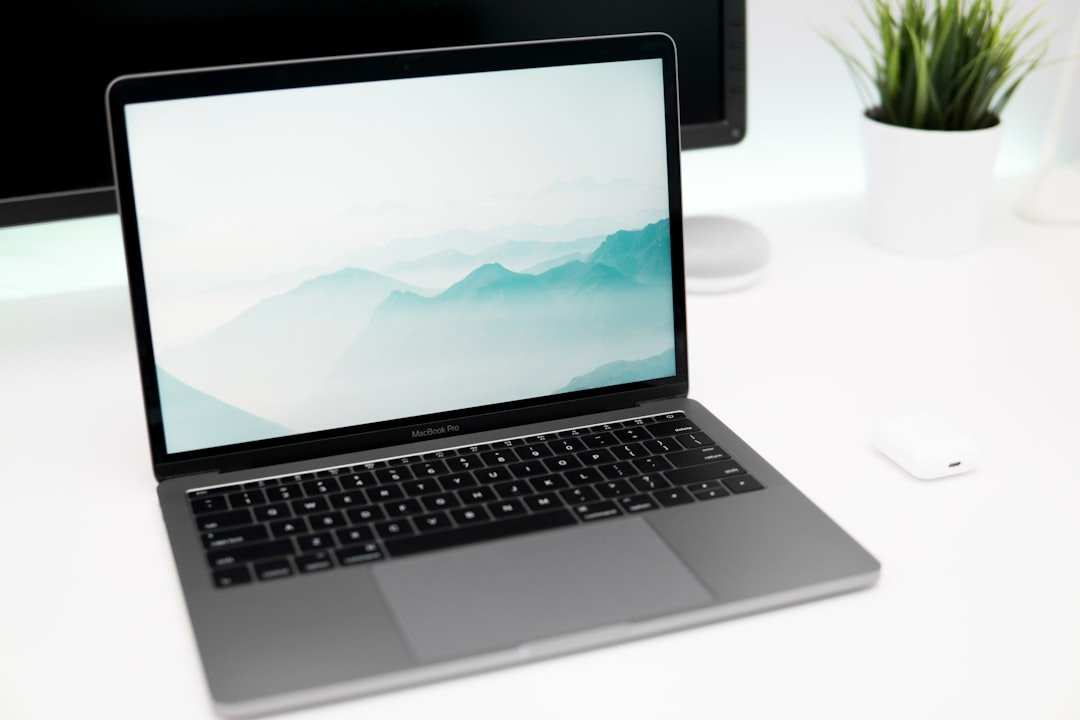laptop: (70, 19, 917, 720)
